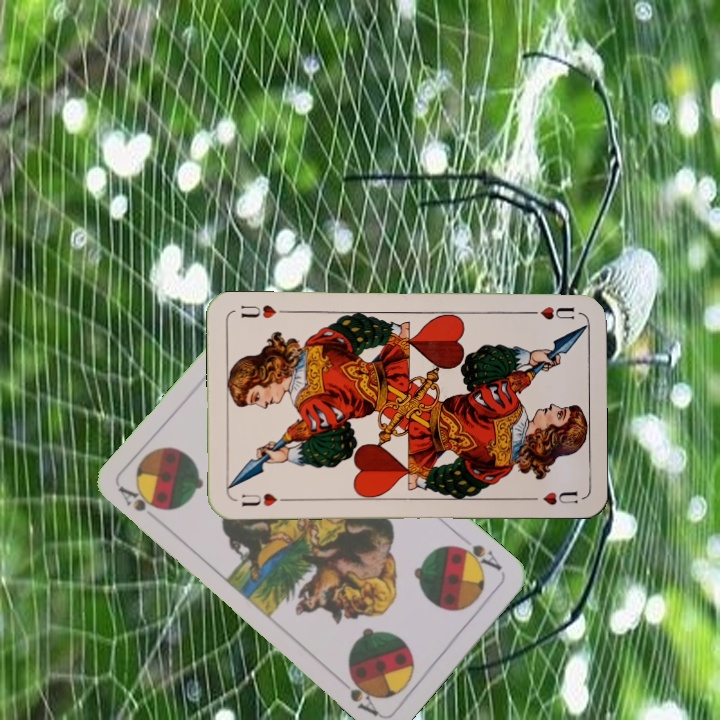HU: (237, 489, 291, 509), (521, 303, 577, 322)
SA: (451, 540, 505, 575), (115, 482, 163, 514)
